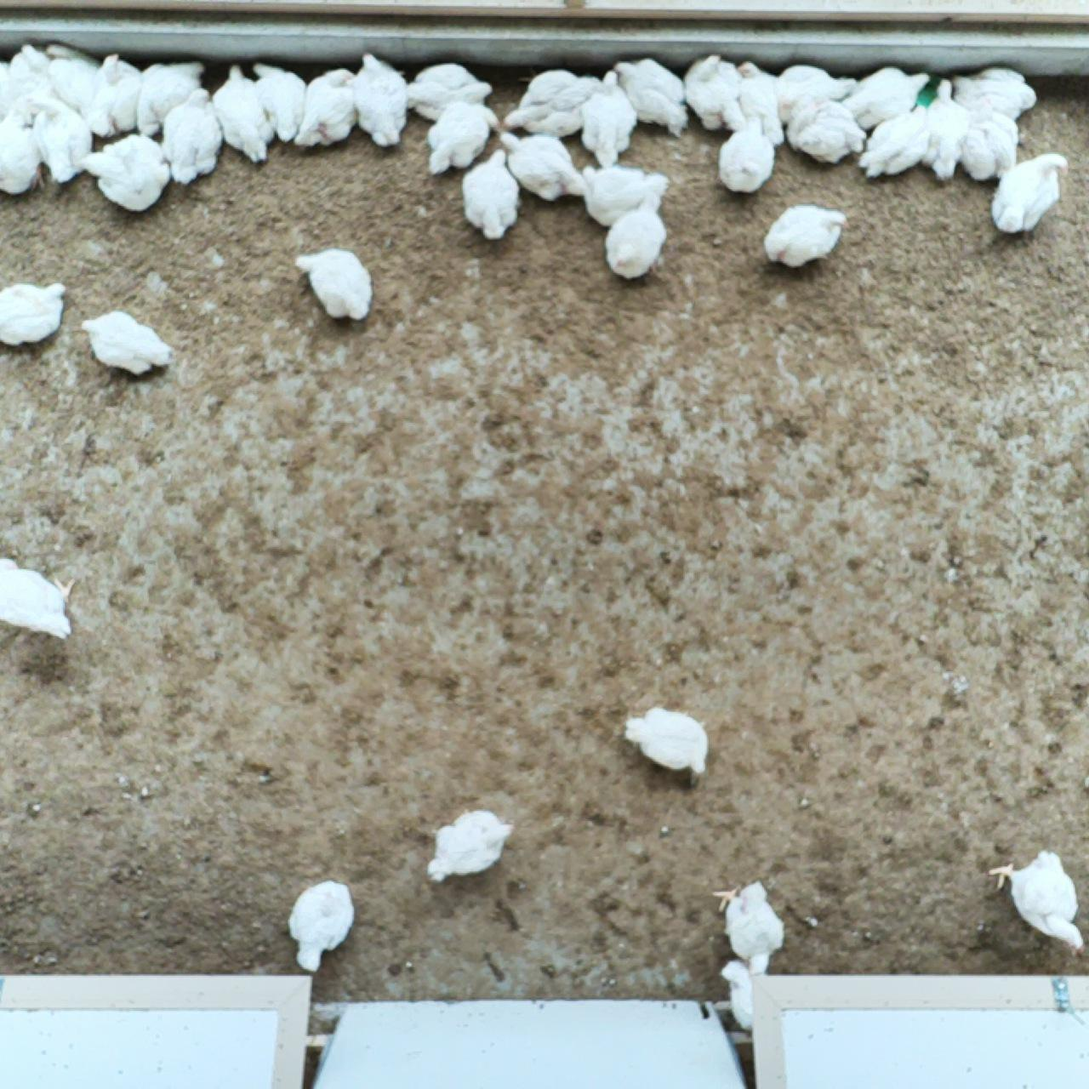chicken: (987, 850, 1084, 958), (501, 63, 601, 136), (84, 133, 175, 211), (0, 553, 80, 638), (712, 882, 781, 976), (993, 152, 1071, 235), (430, 809, 516, 884), (500, 128, 593, 197), (625, 704, 710, 777), (289, 878, 355, 969), (164, 85, 223, 184), (856, 104, 932, 180), (83, 312, 170, 378), (839, 69, 932, 130), (789, 100, 871, 169), (214, 63, 271, 162), (614, 57, 687, 134), (298, 248, 372, 323), (352, 50, 409, 146), (137, 58, 204, 138), (924, 77, 973, 186), (295, 66, 359, 146), (605, 196, 667, 277), (583, 73, 636, 166), (725, 115, 781, 203), (404, 63, 493, 118), (430, 100, 493, 177), (466, 149, 521, 237), (87, 55, 146, 137), (38, 98, 94, 183), (251, 57, 309, 139), (583, 165, 661, 223), (684, 52, 740, 128), (0, 49, 55, 126), (0, 282, 67, 345), (953, 68, 1039, 115), (781, 63, 857, 116), (46, 40, 105, 108), (966, 111, 1023, 180), (1, 111, 43, 197), (740, 60, 781, 141), (720, 962, 755, 1033)
